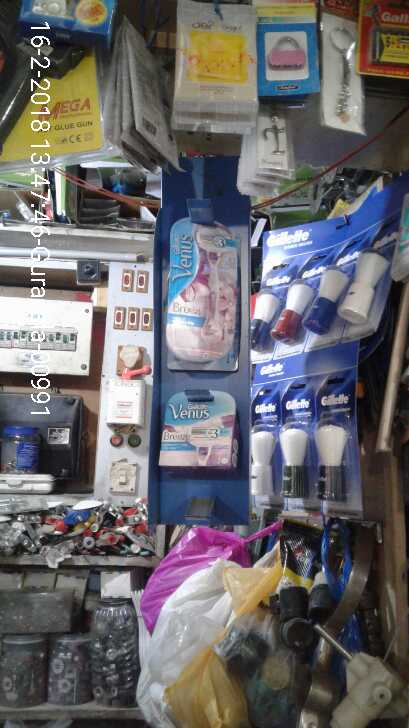beauty: (164, 217, 243, 370), (152, 390, 239, 480), (341, 245, 385, 339), (312, 416, 353, 507), (305, 264, 347, 351), (244, 407, 278, 510), (275, 415, 310, 501), (276, 270, 308, 361), (253, 284, 275, 357)
